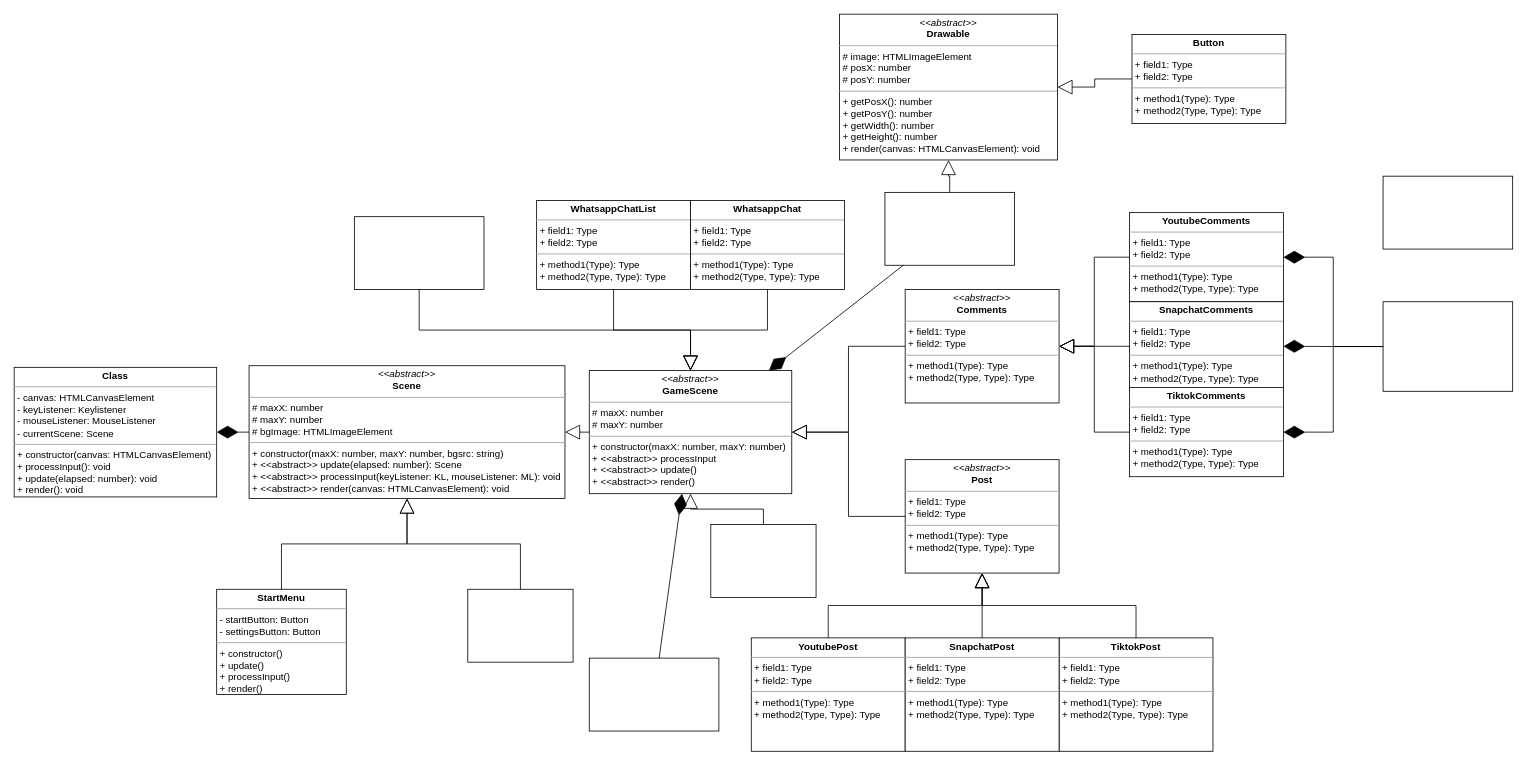
This 1527x765 diagram has some shape labels left out. The centre of each missing label's shape, as x and y in pixels:
ChoiceMenu + field: Type + method(): Type: the point at 1447,346
Clock + field: Type + method(): Type: the point at 653,694
HomeScreen + field: Type + method(): Type: the point at 763,560
Notification + field: Type + method(): Type: the point at 1447,212
PlayerCharacter + field: Type + method(): Type: the point at 949,228
ReportScreen + field: Type + method(): Type: the point at 419,253
SettingsMenu + field: Type + method(): Type: the point at 520,625
